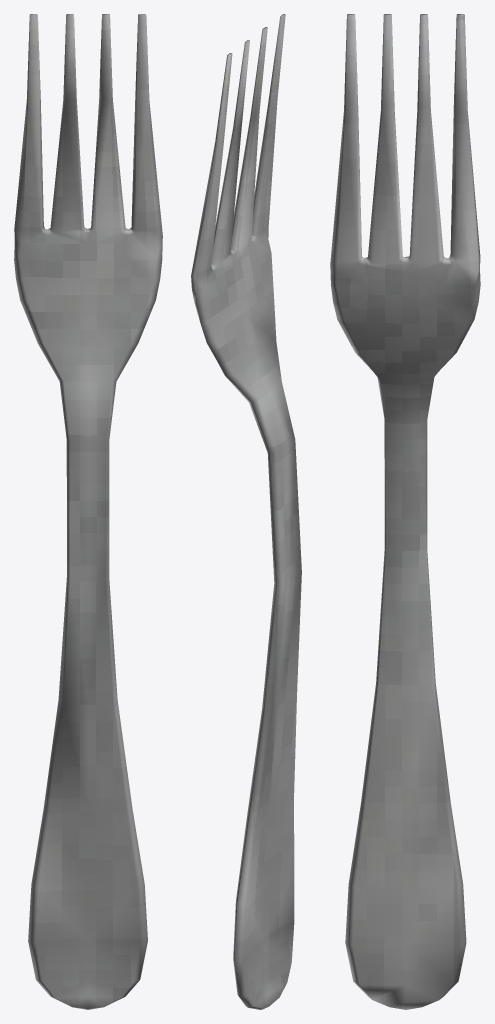
File: fork.obj
3 renders of one model, left to right at view 1: azimuth 90°, elevation 25°; view 2: azimuth 150°, elevation 25°; view 3: azimuth 270°, elevation 25°, orthographic. The views are drawn at different scales.
Visible parts, largest first — view 1: fork; view 2: fork; view 3: fork.
Boxes of the visible parts, left/top/right/bottom form: fork: left=14, top=14, right=162, bottom=1009; fork: left=191, top=14, right=301, bottom=1009; fork: left=330, top=14, right=480, bottom=1009.
Bounding box in the file's own units: 0.0228 × 0.3075 × 0.0419.
